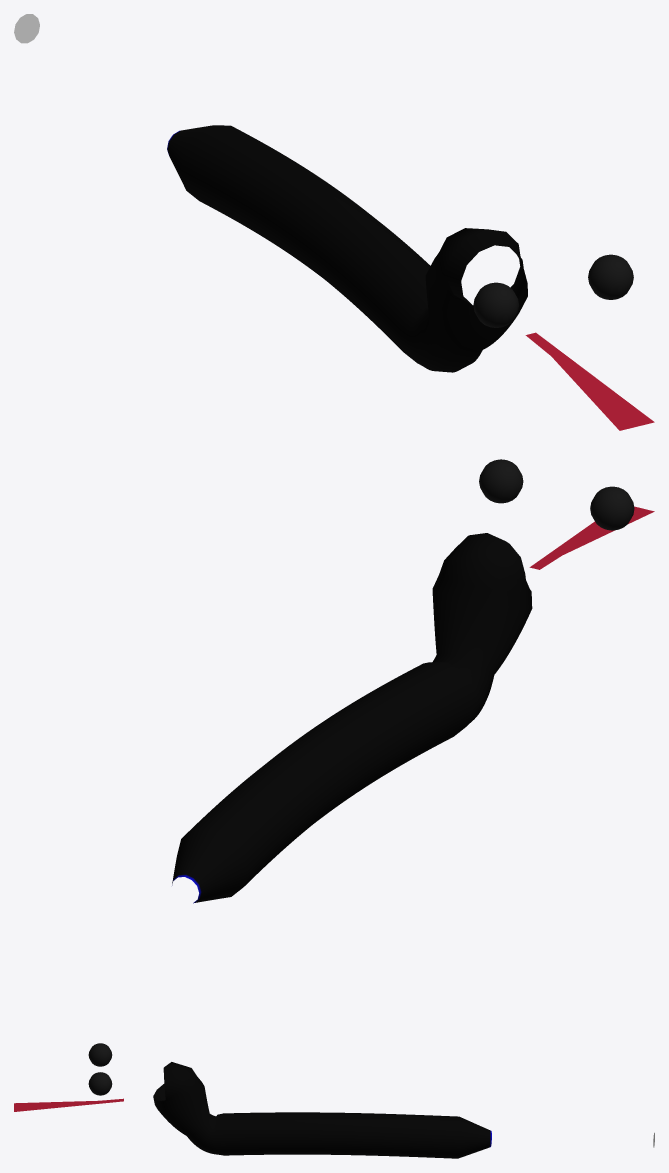
File: rombifera.glb
The picture shows the model from 3 angles, top to bottom: view 1: azimuth 30°, elevation 25°; view 2: azimuth 150°, elevation 25°; view 3: azimuth 270°, elevation 25°; orthographic projection. The views are drawn at different scales.
Size of the model in its own units: 0.35 by 0.4027 by 2.44.
